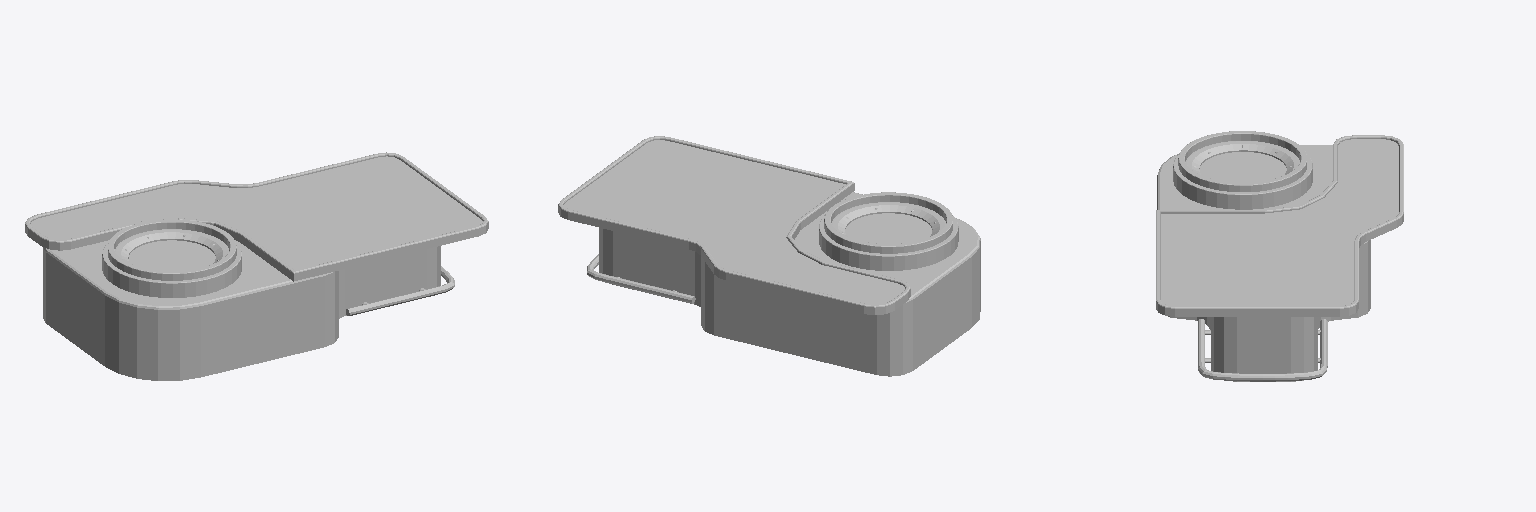
File: Roulette.obj
3 renders of one model, left to right at view 1: azimuth 30°, elevation 25°; view 2: azimuth 150°, elevation 25°; view 3: azimuth 270°, elevation 25°, orthographic.
Parts seen in each view (by area): view 1: Rulet2, Rulet3; view 2: Rulet2, Rulet3; view 3: Rulet2, Rulet3.
Boxes of the visible parts, x1,y1,x2,y2 form: Rulet2: [25, 152, 488, 380]; Rulet3: [30, 156, 482, 269]; Rulet2: [558, 136, 980, 376]; Rulet3: [564, 140, 904, 304]; Rulet2: [1156, 131, 1403, 381]; Rulet3: [1161, 139, 1398, 305].
Bounding box in the file's own units: 41.65 × 10.79 × 25.24.